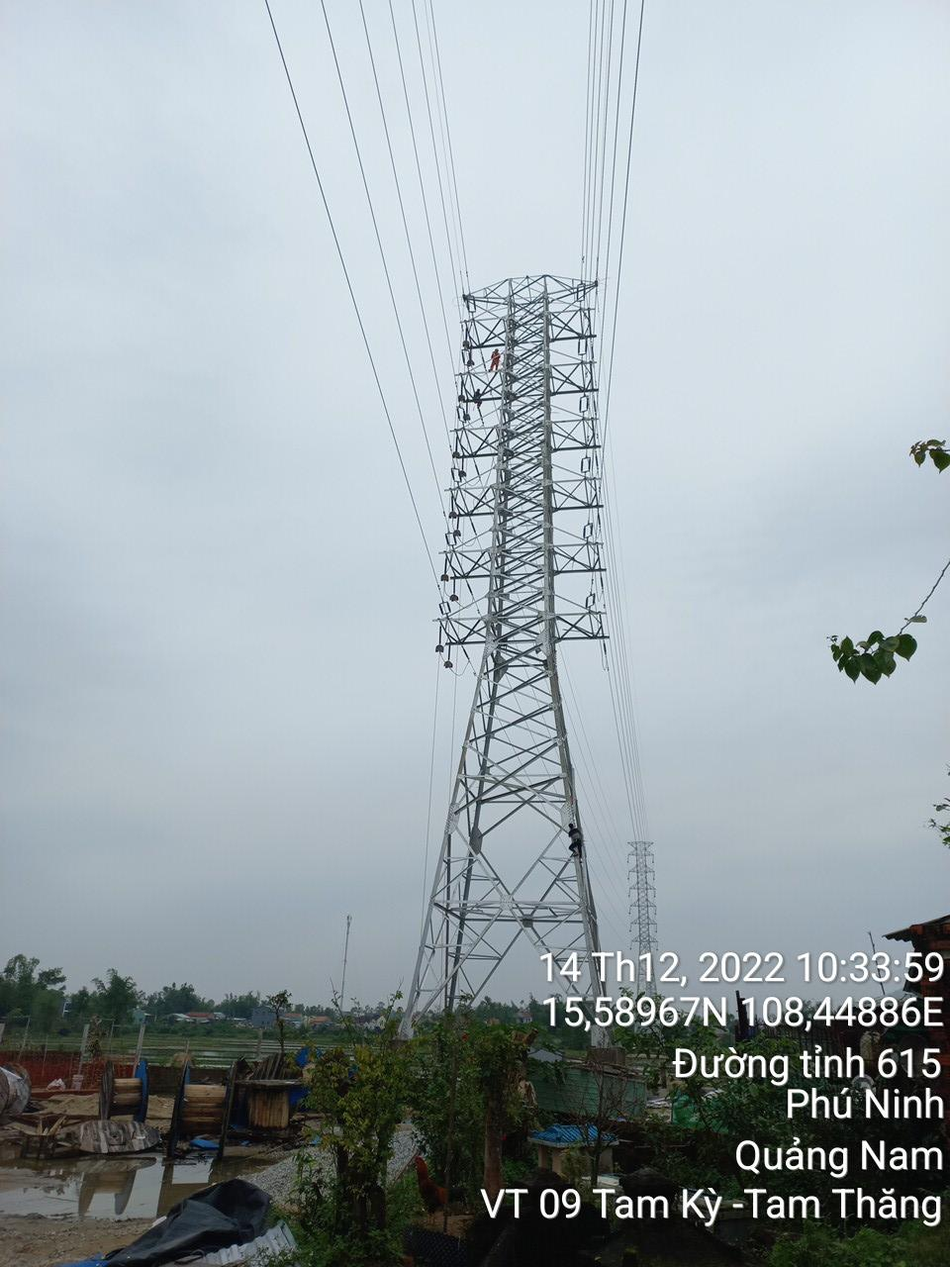power_tower: (414, 244, 633, 928)
